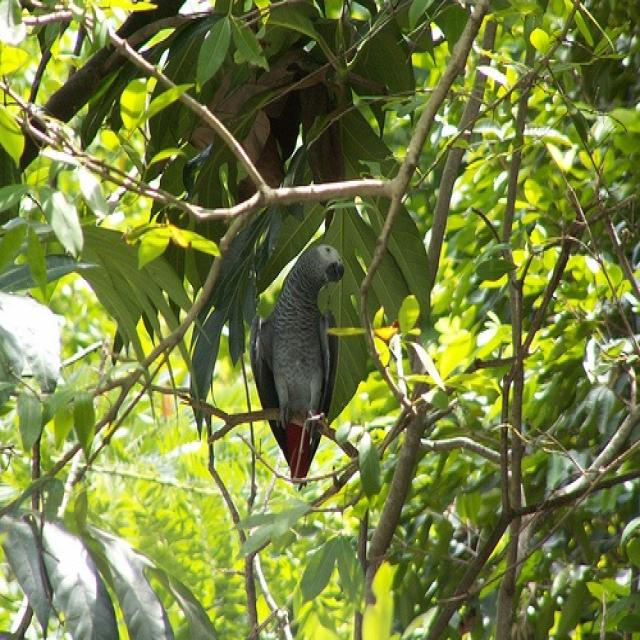bird: (248, 241, 347, 483)
